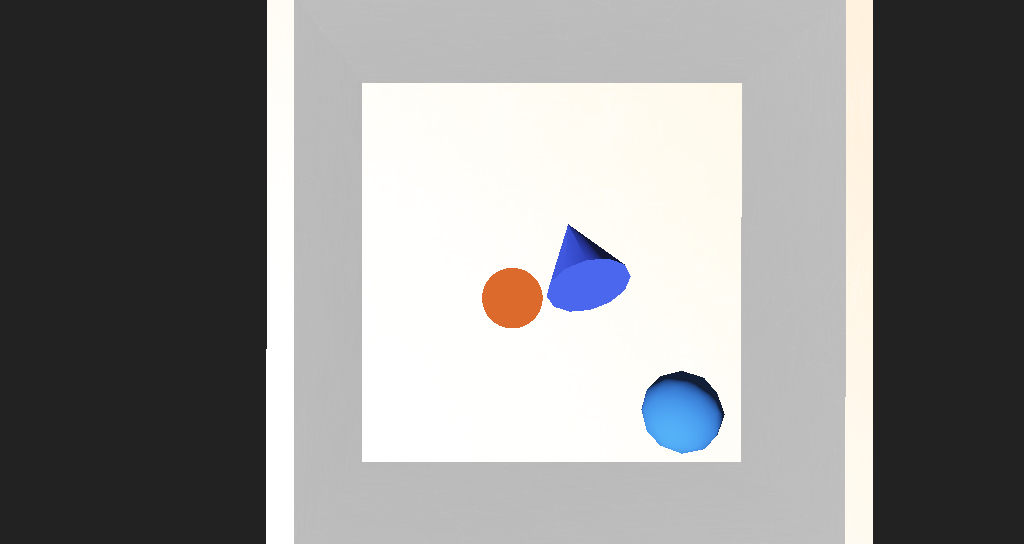cone: (448, 267, 495, 296)
cylinder: (485, 220, 566, 296)
sphere: (573, 327, 640, 370)
